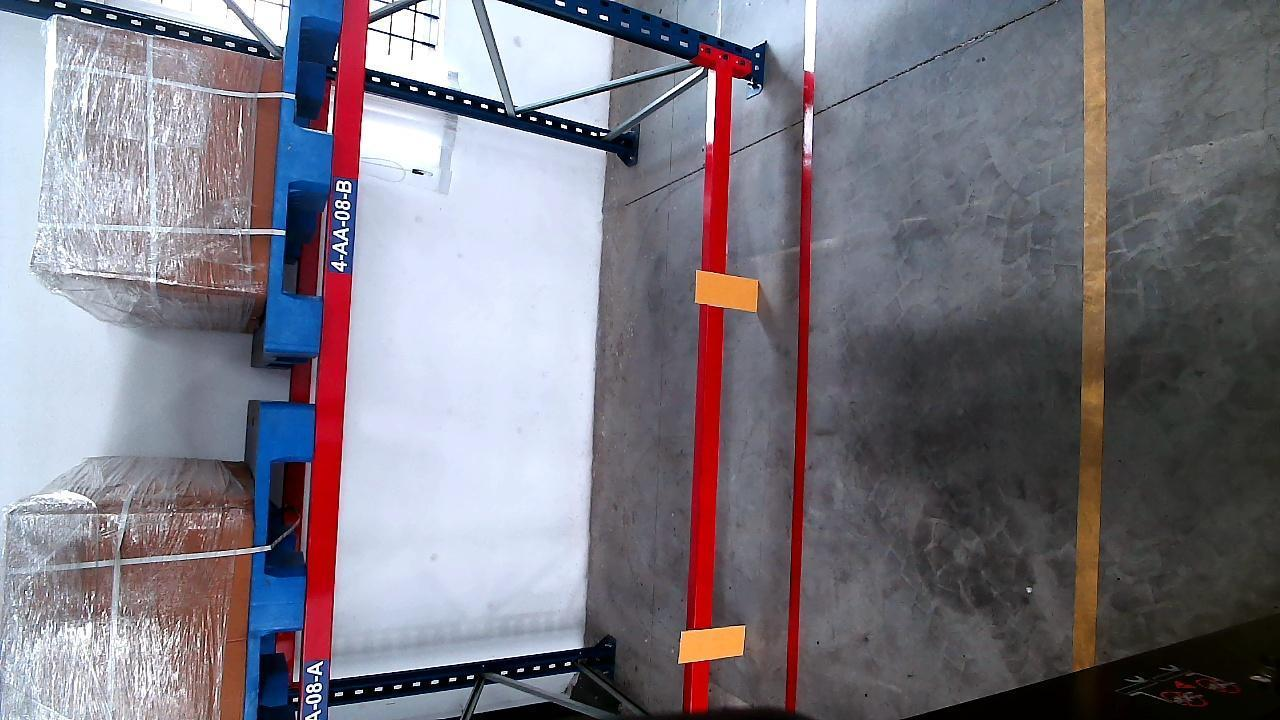h_rack: (302, 0, 369, 720), (692, 66, 732, 720)
orange_strip: (678, 625, 747, 662), (697, 272, 760, 308)
red_line: (785, 24, 819, 709)
small_pallet: (273, 0, 350, 355), (246, 411, 315, 717)
yellow_line: (1077, 5, 1110, 672)
